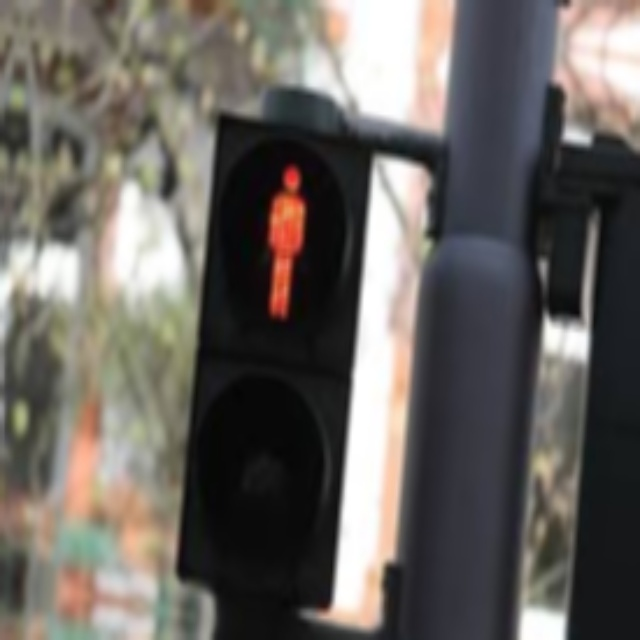red_light: (254, 157, 324, 325)
